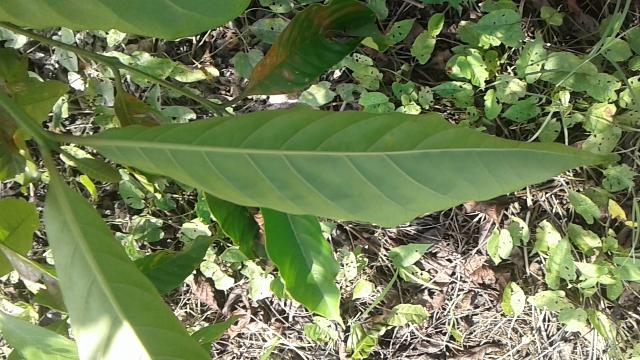healthy: (44, 106, 618, 227)
